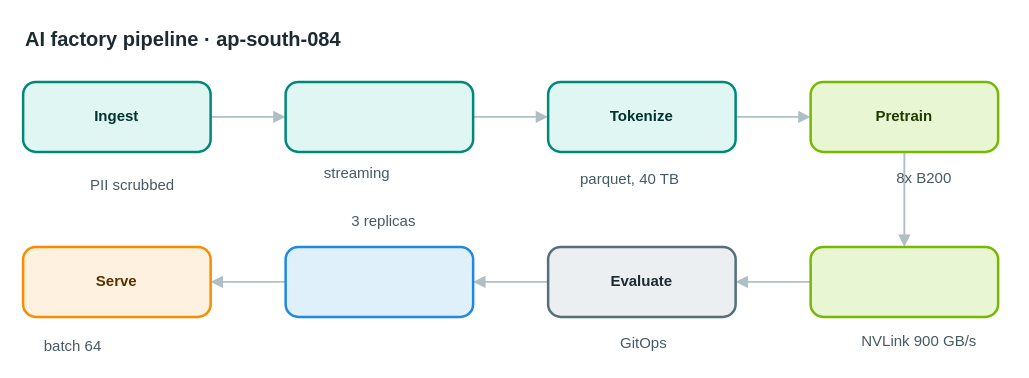
The diagram is 1029 pixels wide and 378 high, and some of its shapes have lost their labels. Here are the shapes that lost their labels. From the top down, the centre of each, then its label:
the point at 379,116: Curate
the point at 379,281: Model registry
the point at 904,281: Fine-tune
